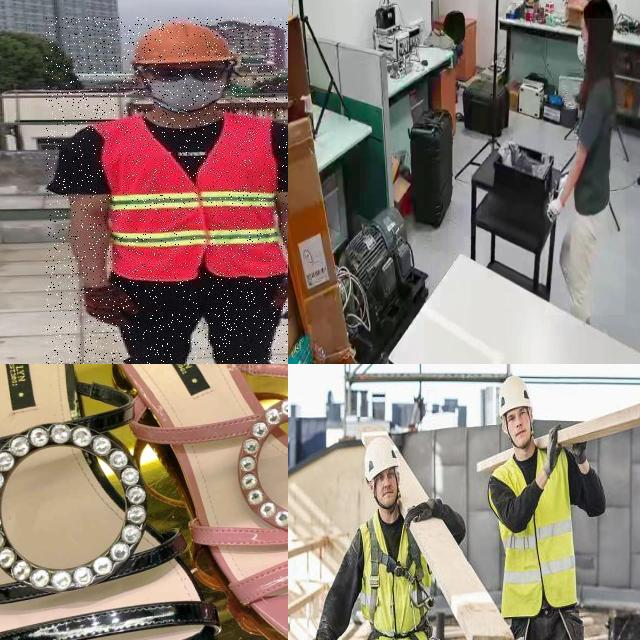Sandals: (0, 364, 245, 640), (69, 364, 288, 640)
face_mask: (576, 20, 590, 65)
hand_glove: (547, 193, 566, 229), (557, 168, 571, 194)
head_helmet: (125, 18, 238, 69), (360, 433, 408, 492), (492, 371, 540, 425)
head_nohelmet: (581, 0, 612, 19)
person: (46, 17, 288, 364), (462, 369, 632, 640), (303, 414, 471, 640), (545, 0, 626, 316)
vest: (91, 117, 287, 278), (482, 436, 593, 627), (351, 499, 446, 640)
